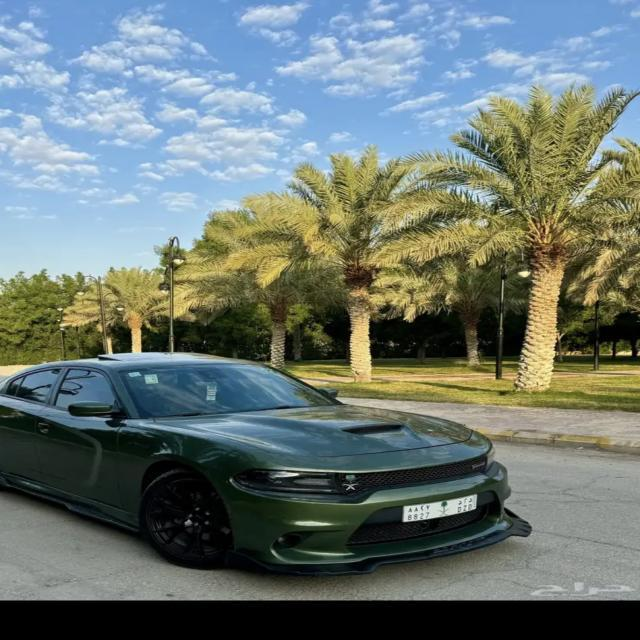license_plate: (403, 494, 478, 526)
